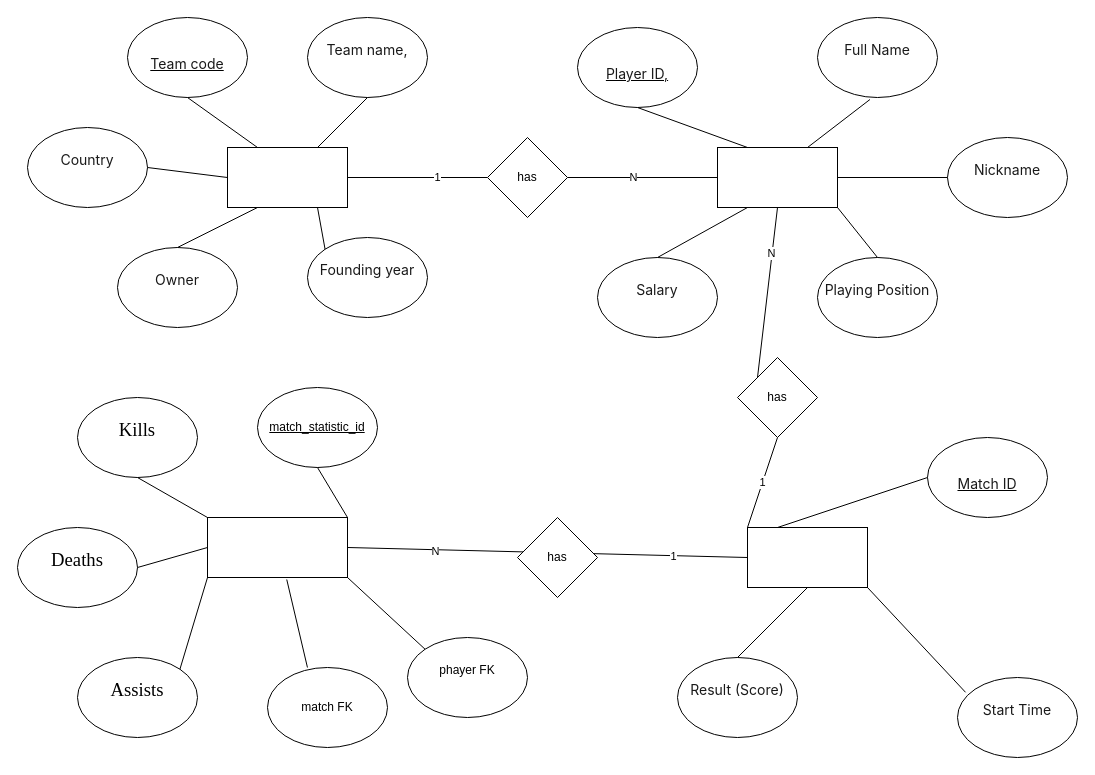
This 1095x775 diagram has some shape labels left out. Each missing label, with the centre of its shape:
Match: the point at 807,557
Match_Statistic: the point at 277,547
Player: the point at 777,177
Team: the point at 287,177
